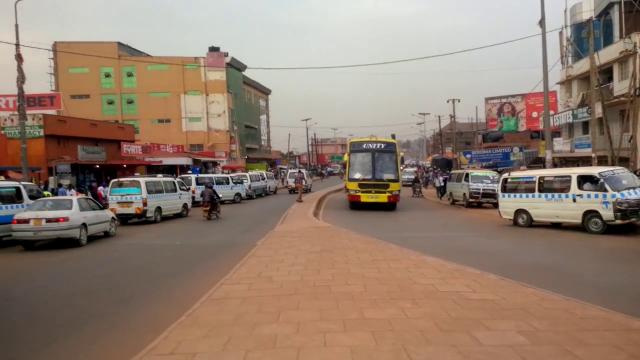bus: (346, 135, 402, 212)
car: (11, 194, 118, 246)
motorcycle: (201, 183, 223, 222), (412, 178, 424, 200)
van: (499, 166, 637, 227), (118, 176, 195, 223), (445, 168, 493, 210), (189, 174, 248, 204), (286, 166, 312, 195), (244, 172, 266, 197), (266, 170, 280, 194)
